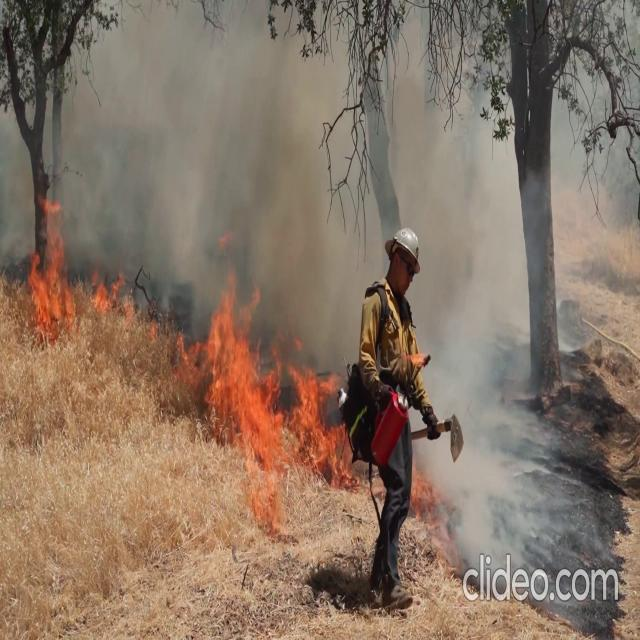Fire: (190, 288, 350, 491), (4, 198, 138, 334), (21, 200, 78, 332)
Smoke: (72, 24, 598, 330)
